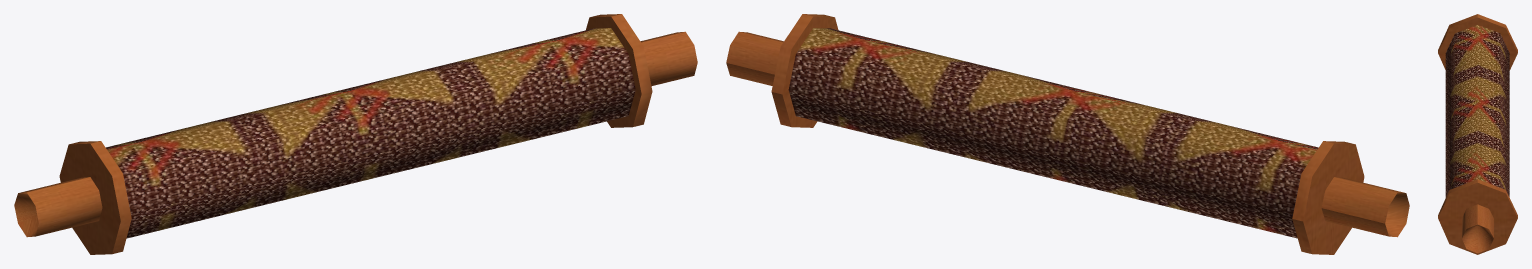
The model's file is cloth.gltf.
3 views of the same model, side by side, from view 1: azimuth 30°, elevation 25°; view 2: azimuth 150°, elevation 25°; view 3: azimuth 270°, elevation 25° (orthographic). The views are drawn at different scales.
Visible parts, largest first — view 1: cloth; view 2: cloth; view 3: cloth.
Part boxes in pixels (<box>): cloth: <box>14,14,697,254</box>; cloth: <box>726,14,1409,254</box>; cloth: <box>1438,14,1517,254</box>.
Bounding box in the file's own units: 0.787 × 0.127 × 0.127.
2 materials, 2 textured.
